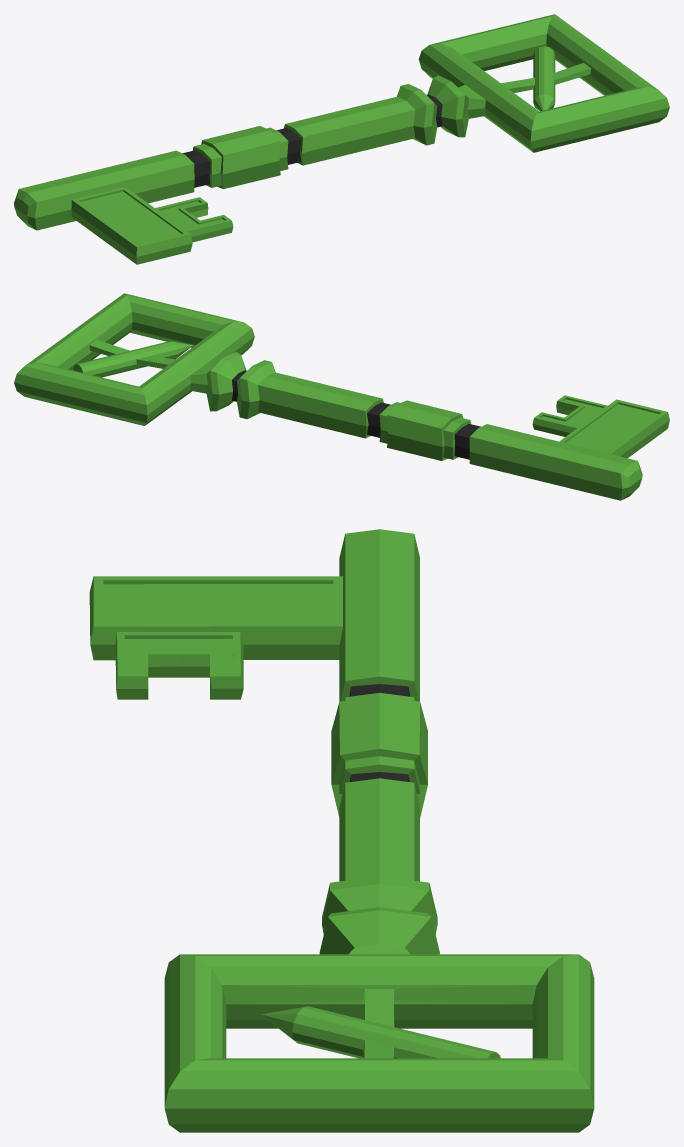
Rendered from SM_Key_Library.fbx.
The picture shows the model from 3 angles, top to bottom: view 1: azimuth 30°, elevation 25°; view 2: azimuth 150°, elevation 25°; view 3: azimuth 270°, elevation 25°; orthographic projection. The views are drawn at different scales.
Visible parts, largest first — view 1: SM_Key_Library; view 2: SM_Key_Library; view 3: SM_Key_Library.
Part boxes in pixels (x1=…): SM_Key_Library: x1=14, y1=14, x2=669, y2=264; SM_Key_Library: x1=14, y1=293, x2=669, y2=500; SM_Key_Library: x1=89, y1=529, x2=594, y2=1132.
Size of the model in its own units: 32.58 by 2.6 by 12.52.
